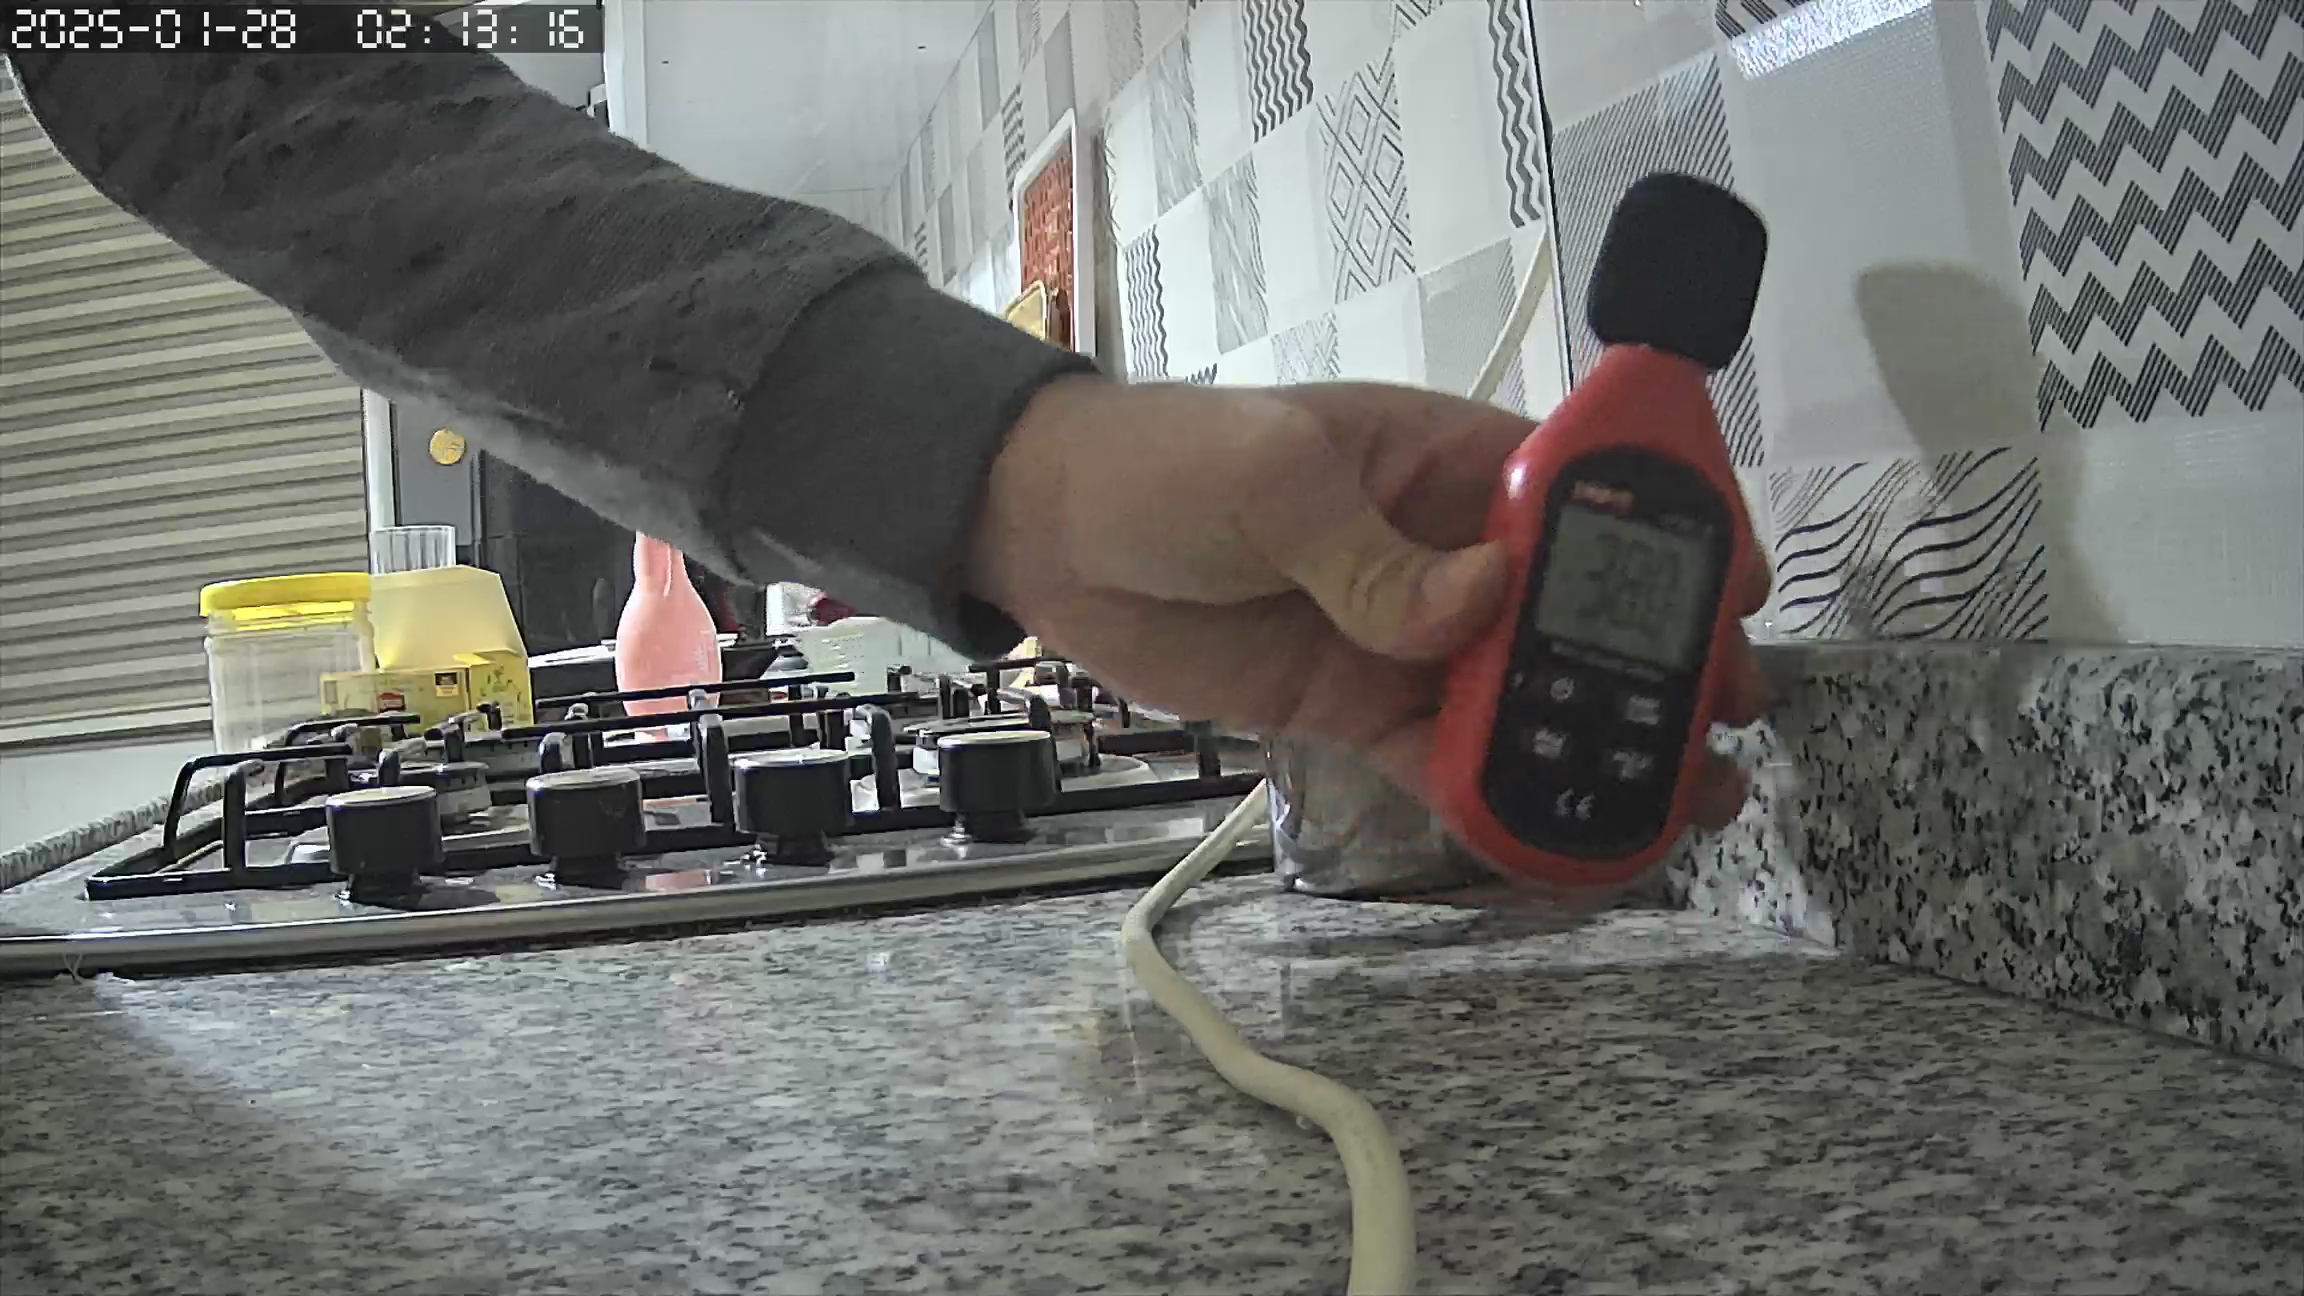screen: (1532, 503, 1707, 673)
